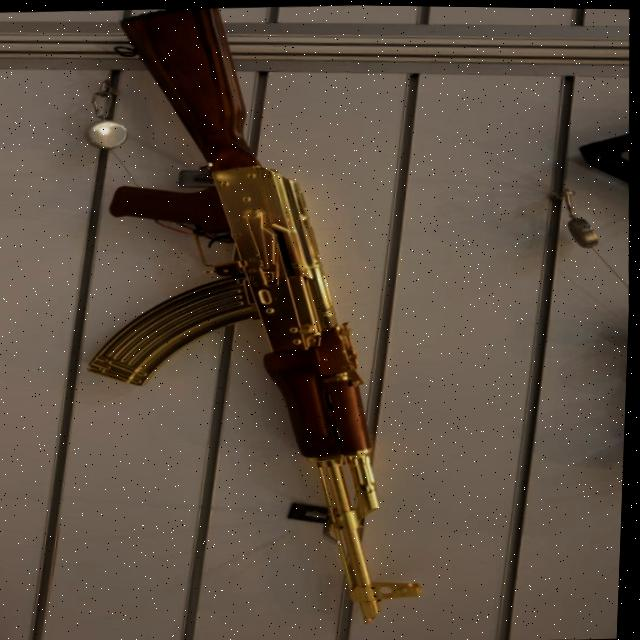firearm: (69, 1, 444, 632)
